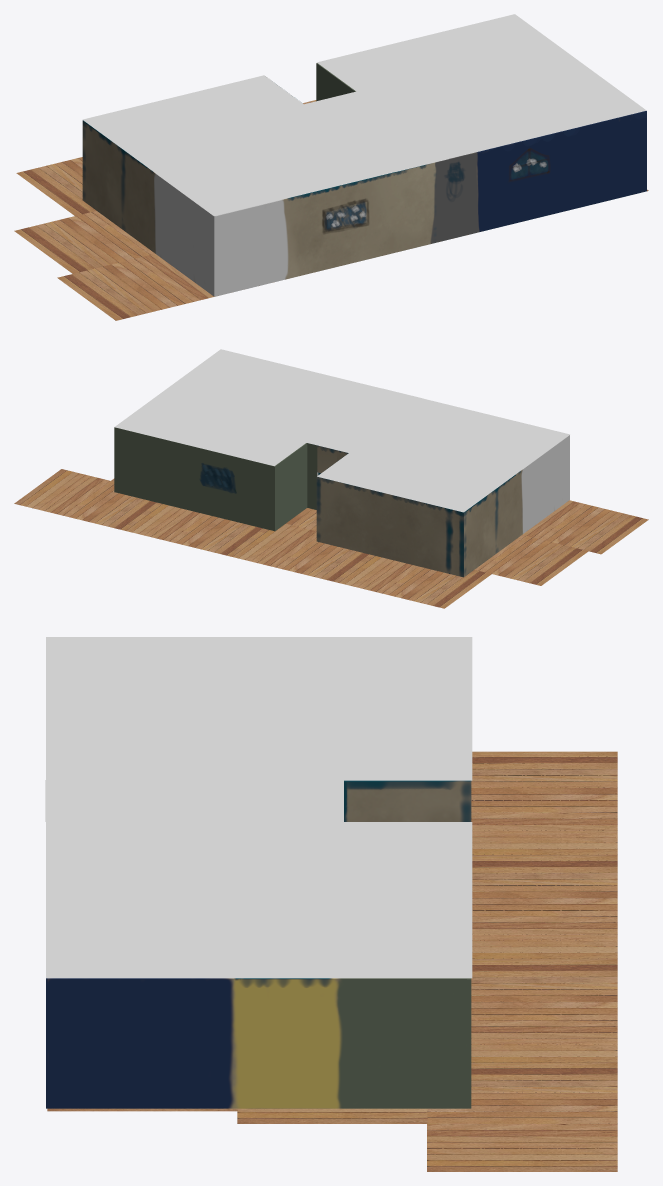
Rendered from TasselHome.fbx.
The picture shows the model from 3 angles, top to bottom: view 1: azimuth 30°, elevation 25°; view 2: azimuth 150°, elevation 25°; view 3: azimuth 270°, elevation 25°; orthographic projection. The views are drawn at different scales.
Parts seen in each view (by area): view 1: polySurface30, pPlane13, pPlane14, polySurface29, pPlane4, pPlane15, pPlane5, pPlane12, polySurface13; view 2: pPlane13, pPlane14, polySurface31, polySurface32, polySurface29, pPlane9, pPlane11, pPlane12, pPlane10, pPlane4, pPlane15, pPlane5 (+4 smaller); view 3: pPlane13, pPlane14, polySurface18, pPlane9, pPlane12, pPlane11, pPlane10, pPlane15, polySurface33, pPlane8, pPlane1.
Boxes of the visible parts, x1,y1,x2,y2 form: polySurface30: [214, 111, 646, 296]; pPlane13: [317, 14, 646, 158]; pPlane14: [82, 75, 395, 215]; polySurface29: [83, 120, 214, 296]; pPlane4: [57, 254, 214, 320]; pPlane15: [304, 91, 448, 171]; pPlane5: [14, 211, 154, 273]; pPlane12: [16, 157, 96, 215]; polySurface13: [316, 63, 355, 101]; pPlane13: [114, 349, 380, 466]; pPlane14: [317, 398, 569, 512]; polySurface31: [114, 427, 273, 530]; polySurface32: [316, 477, 464, 577]; polySurface29: [464, 435, 569, 576]; pPlane9: [14, 469, 160, 530]; pPlane11: [231, 523, 374, 581]; pPlane12: [333, 556, 491, 608]; pPlane10: [126, 502, 263, 556]; pPlane4: [522, 500, 648, 554]; pPlane15: [307, 388, 422, 453]; pPlane5: [474, 535, 588, 585]; pPlane13: [46, 822, 472, 978]; pPlane14: [46, 637, 472, 780]; polySurface18: [47, 978, 469, 1108]; pPlane9: [427, 1063, 617, 1171]; pPlane12: [471, 751, 617, 855]; pPlane11: [472, 855, 617, 959]; pPlane10: [471, 959, 617, 1064]; pPlane15: [45, 780, 343, 821]; polySurface33: [344, 780, 470, 821]; pPlane8: [237, 1108, 427, 1123]; pPlane1: [47, 1108, 237, 1111].
Bounding box in the file's own units: 88.26 × 11.23 × 44.39.
